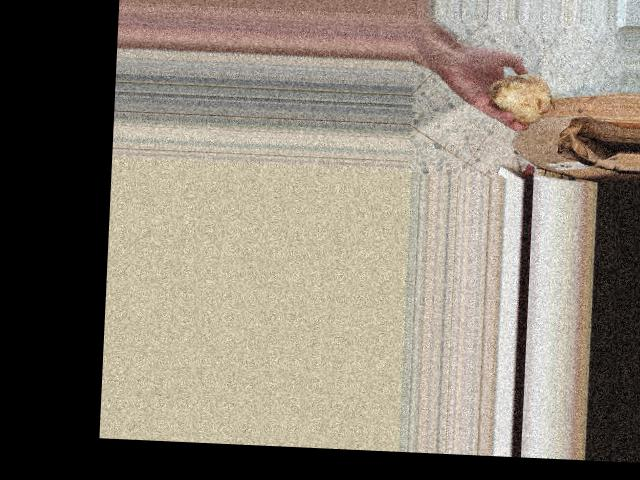onion: (481, 67, 555, 127)
